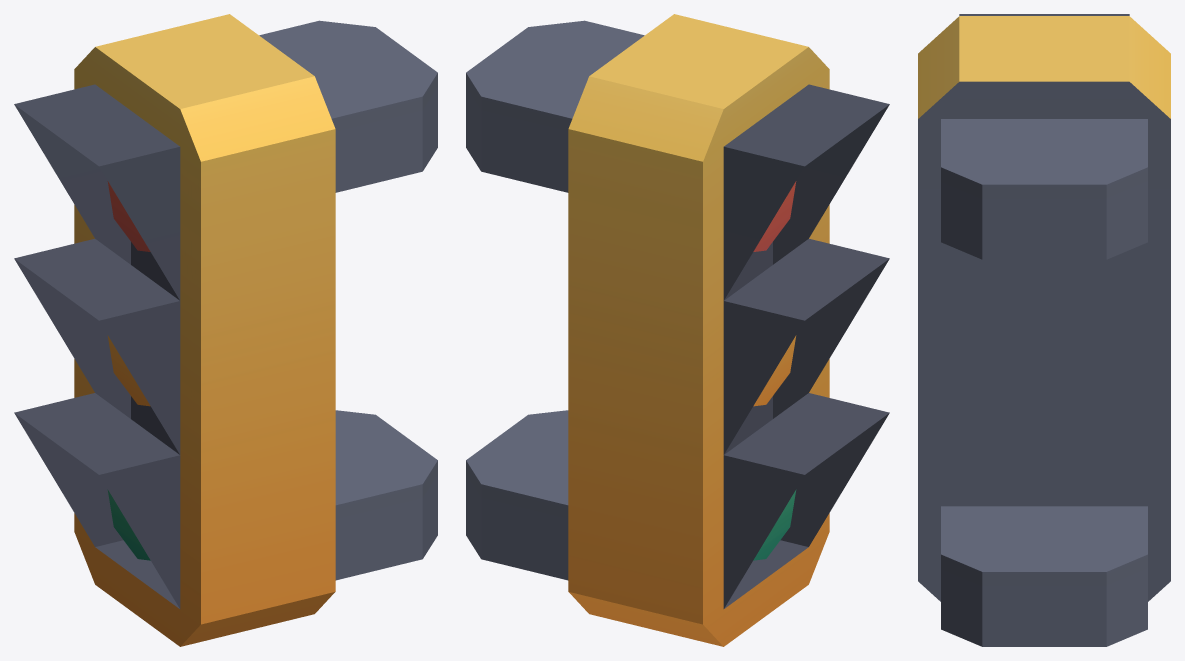
Rendered from roads__traffic-light-object-vertical.glb.
The picture shows the model from 3 angles, left to right: view 1: azimuth 30°, elevation 25°; view 2: azimuth 150°, elevation 25°; view 3: azimuth 270°, elevation 25°; orthographic projection.
Visible parts, largest first — view 1: traffic-light-object-vertical; view 2: traffic-light-object-vertical; view 3: traffic-light-object-vertical.
Part boxes in pixels (x1,y1,x2,y2): traffic-light-object-vertical: [14, 14, 437, 646]; traffic-light-object-vertical: [466, 14, 889, 646]; traffic-light-object-vertical: [918, 14, 1170, 646].
Bounding box in the file's own units: 0.0976 × 0.1432 × 0.0611.
1 material, 1 textured.
